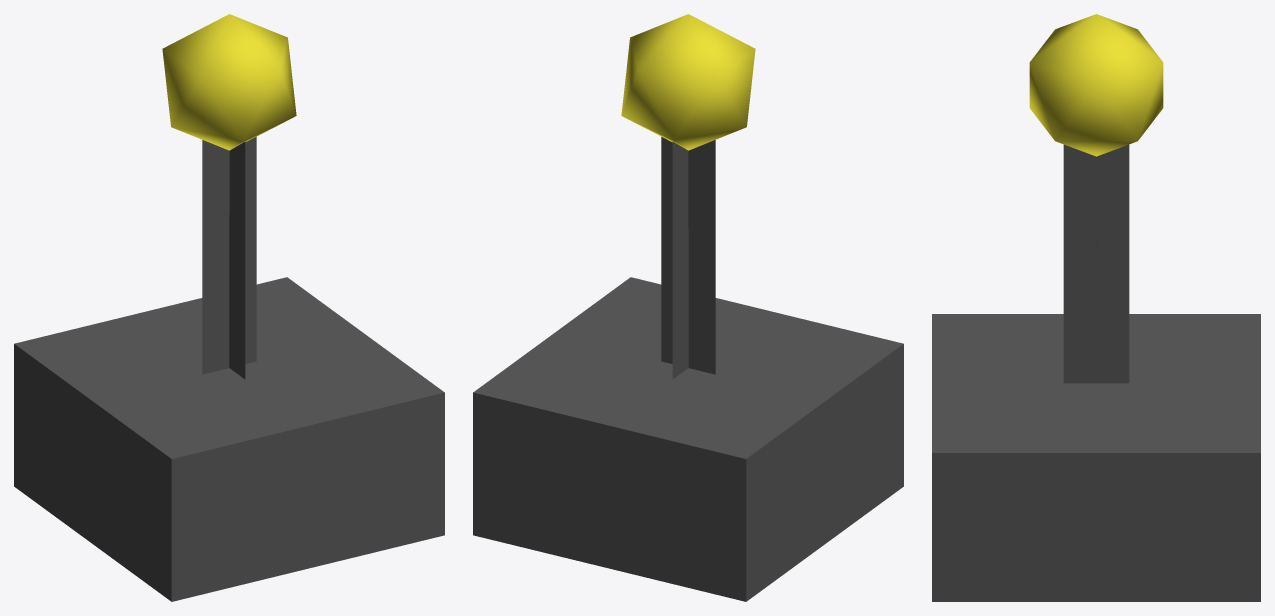
Rendered from light_table_mockup.fbx.
The picture shows the model from 3 angles, left to right: view 1: azimuth 30°, elevation 25°; view 2: azimuth 150°, elevation 25°; view 3: azimuth 270°, elevation 25°; orthographic projection. The views are drawn at different scales.
Parts seen in each view (by area): view 1: Icosphere.003; view 2: Icosphere.003; view 3: Icosphere.003.
Boxes of the visible parts, bbox=[...] form: Icosphere.003: bbox=[14, 14, 444, 601]; Icosphere.003: bbox=[473, 14, 903, 601]; Icosphere.003: bbox=[932, 14, 1260, 601].
Size of the model in its own units: 0.1 by 0.1 by 0.1739.
